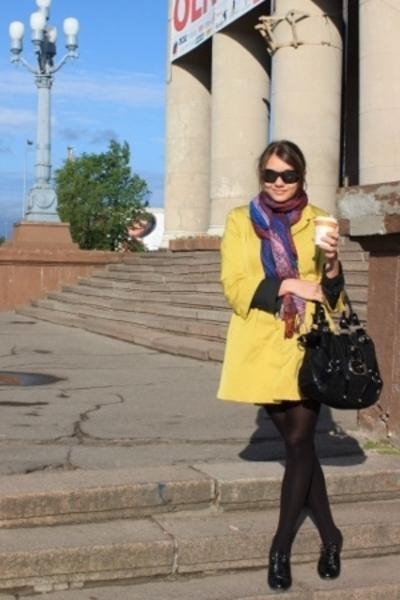bag: (298, 297, 382, 415)
jacket: (217, 202, 327, 402)
shirt: (248, 263, 344, 315)
shoe: (264, 540, 340, 590)
